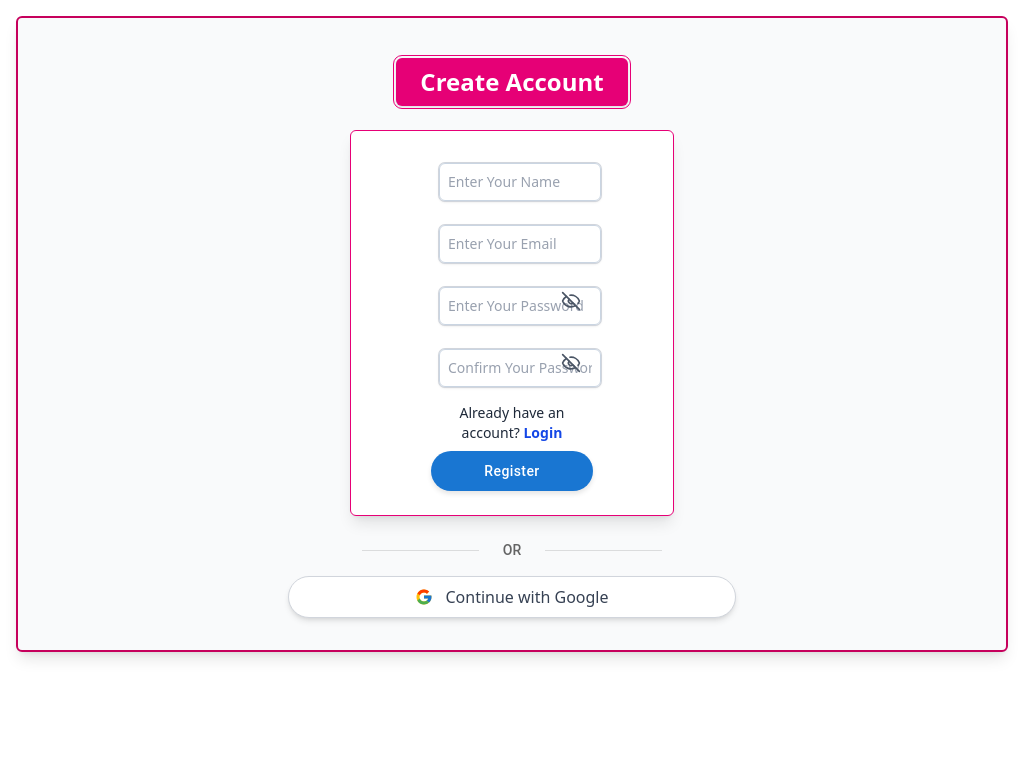
SignUp Component › shows validation error if fields are empty and form is submitted
Click the button "Register": (512, 471) [431,451,593,491]
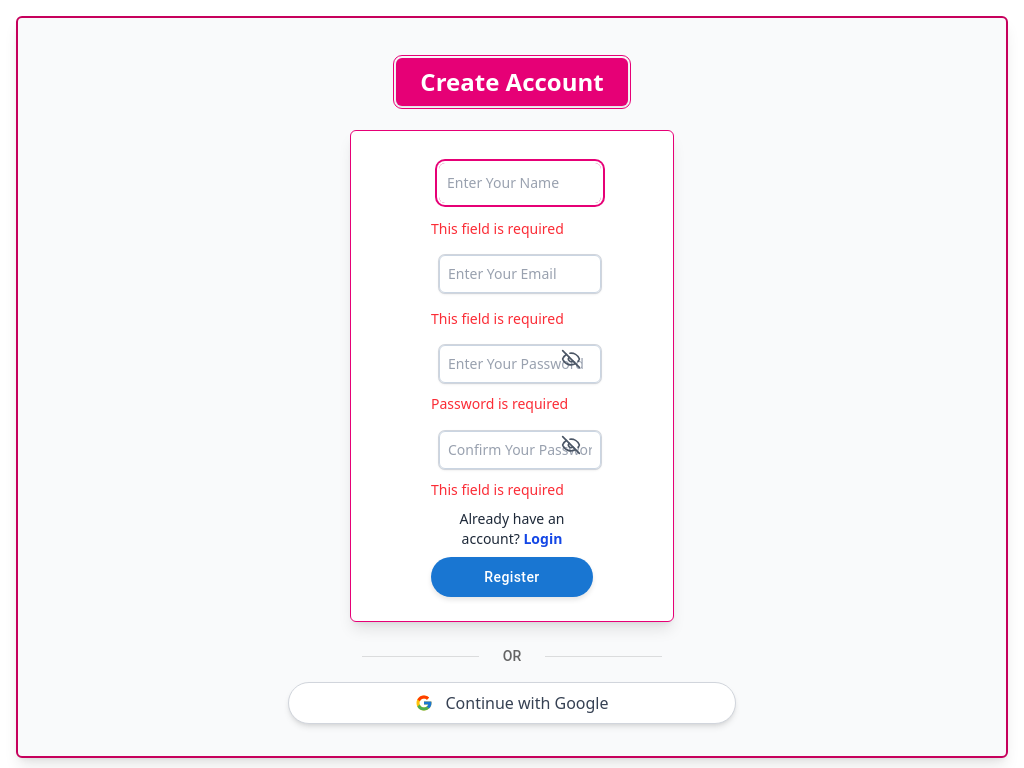
Expected: the text "This field is required" is shown 3 times, [431,219,564,238]; [431,309,564,328]; [431,480,564,499]
